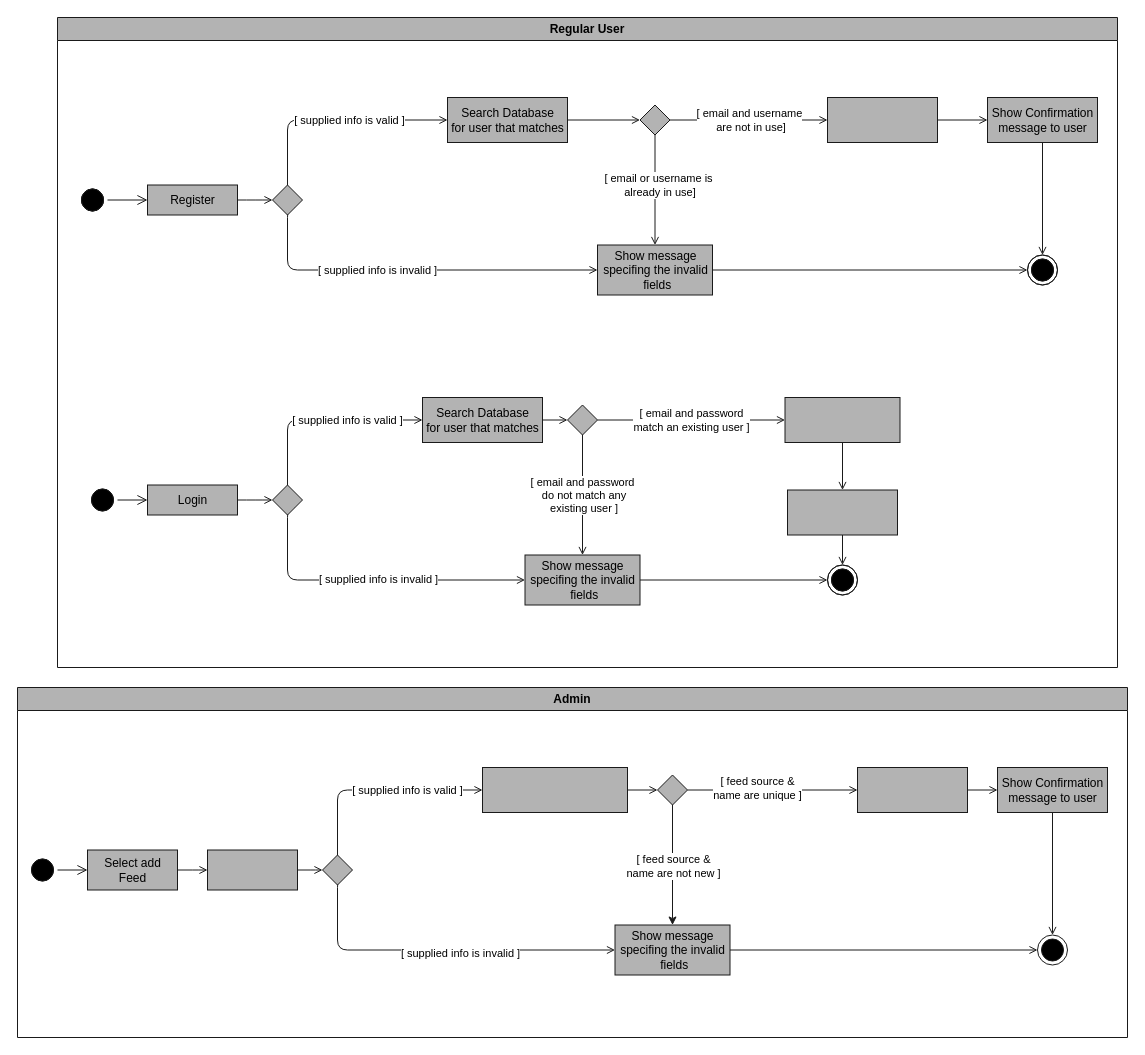
Some shapes in this 1145 by 1055 pixel diagram are drawn without their labels. The shapes that lost their labels are listed below. From the top down, each one's centre as x and y in pixels, then its label:
the point at 882,119: Register new user to DB
the point at 842,419: Load User from DB as logged in user
the point at 842,512: Show Confirmation message
the point at 555,789: Search Database for feeds that match
the point at 912,789: Register new feed to DB
the point at 252,869: Input Feed info
